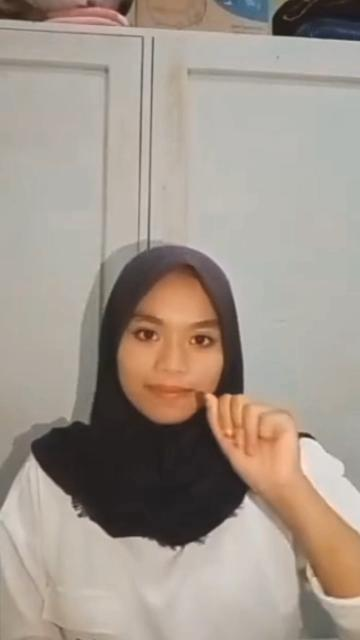A: (202, 383, 306, 502)
